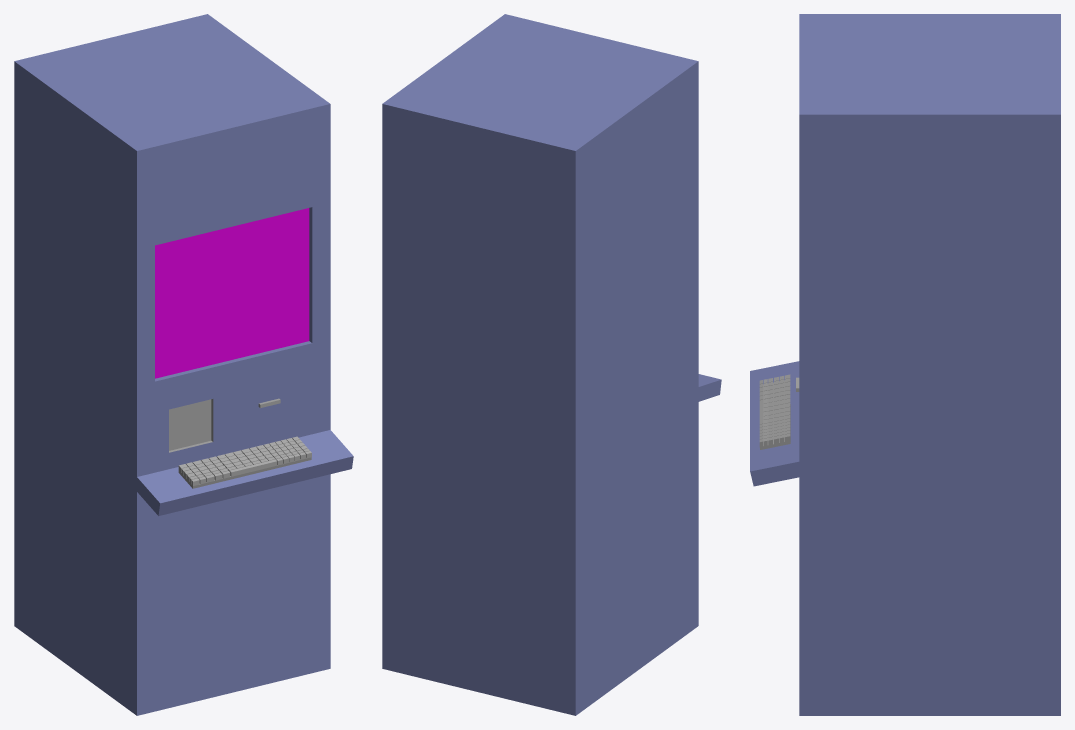
The model's file is Machine_policePost.fbx.
3 renders of one model, left to right at view 1: azimuth 30°, elevation 25°; view 2: azimuth 150°, elevation 25°; view 3: azimuth 270°, elevation 25°, orthographic. The views are drawn at different scales.
Visible parts, largest first — view 1: pCube14, pCube16; view 2: pCube14; view 3: pCube14, pCube16.
Part boxes in pixels (x1,y1,x2,y2): pCube14: (14, 14, 330, 715); pCube16: (137, 430, 353, 515); pCube14: (382, 14, 698, 715); pCube14: (799, 14, 1060, 715); pCube16: (750, 361, 803, 486).
Size of the model in its own units: 57.79 by 161 by 75.53.
